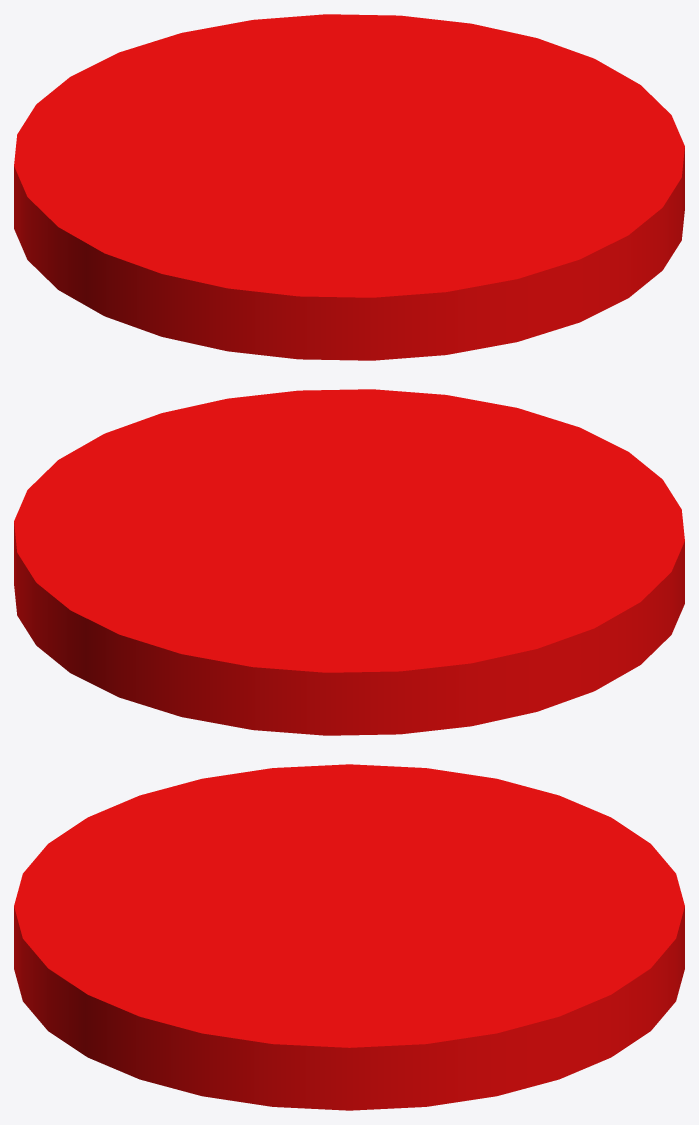
Rendered from tomato_slice.FBX.
The picture shows the model from 3 angles, top to bottom: view 1: azimuth 30°, elevation 25°; view 2: azimuth 150°, elevation 25°; view 3: azimuth 270°, elevation 25°; orthographic projection.
Parts seen in each view (by area): view 1: Circle010; view 2: Circle010; view 3: Circle010.
Part boxes in pixels (x1,y1,x2,y2): Circle010: (14, 14, 684, 360); Circle010: (14, 389, 684, 735); Circle010: (14, 764, 684, 1110).
Size of the model in its own units: 10.65 by 1.1 by 10.65.
